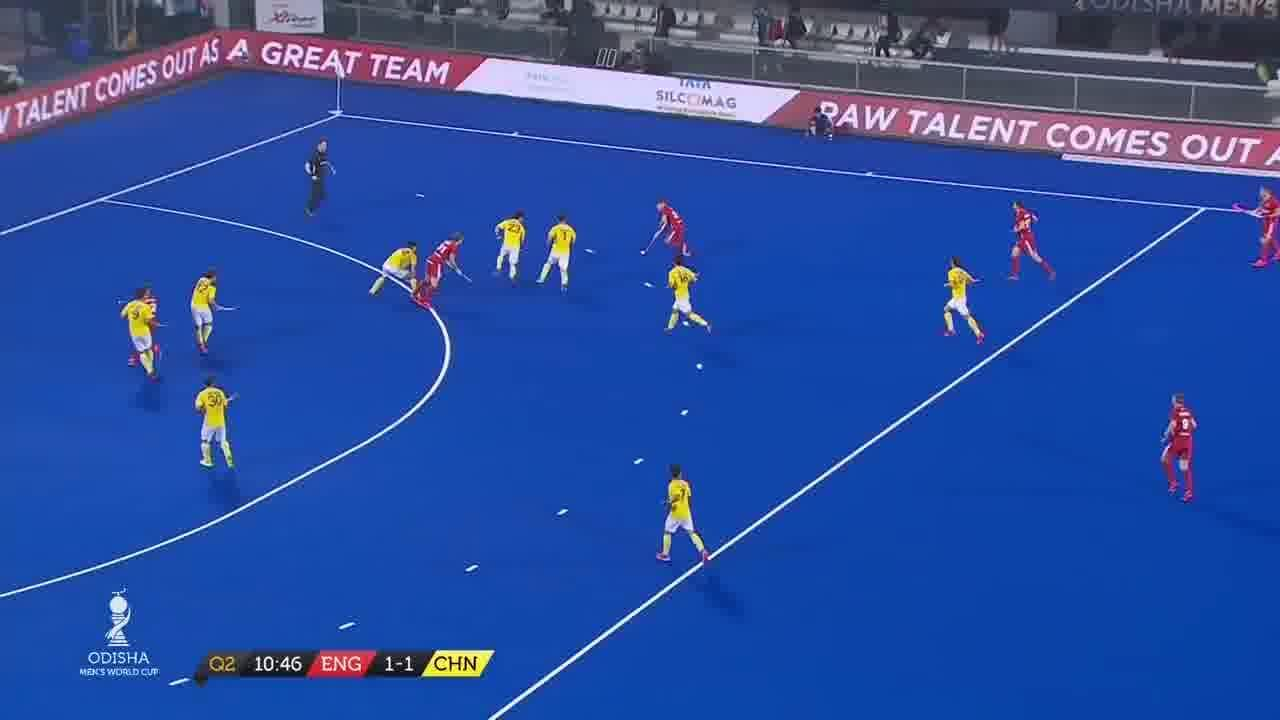ball: (636, 245, 650, 258)
